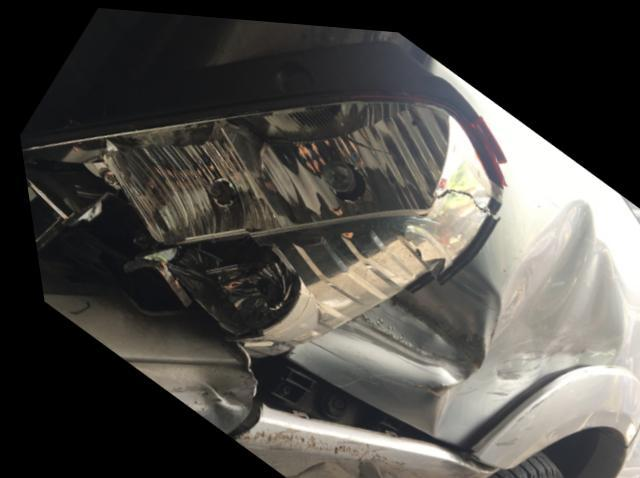crack: (213, 395, 252, 439)
dent: (277, 195, 621, 393)
lamp broken: (16, 55, 496, 352)
scratch: (248, 450, 397, 478)
